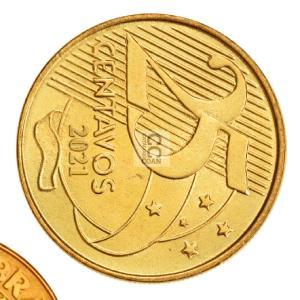25 cent: (15, 12, 287, 283)
